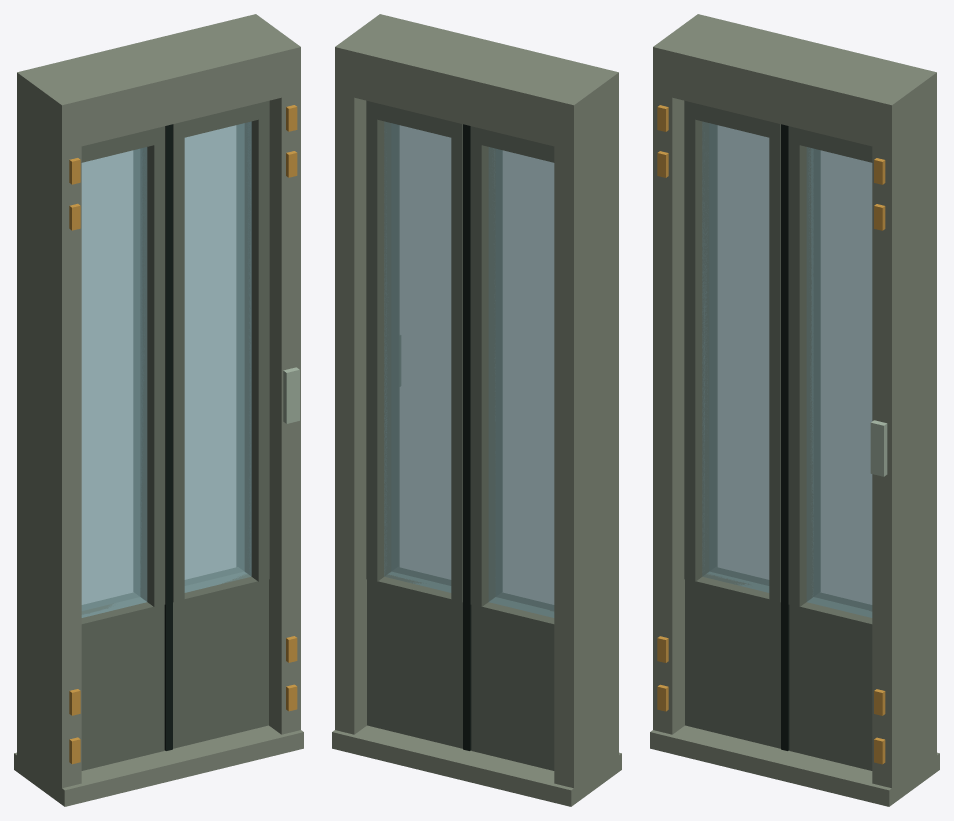
The model's file is CMU3DHybrisaGlassAirlock.glb.
3 views of the same model, side by side, from view 1: azimuth 30°, elevation 25°; view 2: azimuth 150°, elevation 25°; view 3: azimuth 330°, elevation 25° (orthographic).
Parts seen in each view (by area): view 1: glazing (×2), left jamb, inner stile (×2), lower plate (×2), lintel, right jamb, threshold, outer stile, center seam, upper rail (×2), access reader; view 2: glazing (×2), left jamb, inner stile (×2), lower plate (×2), lintel, right jamb, threshold, outer stile, center seam, upper rail (×2); view 3: glazing (×2), right jamb, outer stile (×2), lower plate (×2), lintel, left jamb, threshold, inner stile, center seam, upper rail (×2), access reader.
Part boxes in pixels (bbox=[...]): glazing (×2): bbox=[81, 121, 251, 617]; left jamb: bbox=[17, 106, 81, 804]; inner stile (×2): bbox=[134, 101, 269, 607]; lower plate (×2): bbox=[81, 567, 268, 770]; lintel: bbox=[17, 14, 300, 147]; right jamb: bbox=[269, 80, 300, 734]; threshold: bbox=[14, 725, 303, 806]; outer stile: bbox=[173, 121, 184, 602]; center seam: bbox=[164, 124, 172, 750]; upper rail (×2): bbox=[81, 101, 269, 162]; access reader: bbox=[283, 367, 299, 423]; glazing (×2): bbox=[384, 121, 554, 617]; left jamb: bbox=[554, 106, 618, 796]; inner stile (×2): bbox=[366, 100, 501, 607]; lower plate (×2): bbox=[367, 567, 554, 770]; lintel: bbox=[335, 14, 618, 150]; right jamb: bbox=[335, 80, 366, 734]; threshold: bbox=[332, 725, 621, 806]; outer stile: bbox=[451, 121, 462, 602]; center seam: bbox=[463, 124, 471, 750]; upper rail (×2): bbox=[366, 101, 554, 162]; glazing (×2): bbox=[702, 121, 872, 617]; right jamb: bbox=[872, 106, 936, 798]; outer stile (×2): bbox=[684, 101, 819, 607]; lower plate (×2): bbox=[685, 567, 872, 770]; lintel: bbox=[653, 14, 936, 149]; left jamb: bbox=[653, 80, 684, 734]; threshold: bbox=[650, 725, 939, 806]; inner stile: bbox=[769, 121, 780, 602]; center seam: bbox=[781, 124, 789, 750]; upper rail (×2): bbox=[684, 101, 872, 162]; access reader: bbox=[870, 420, 887, 476].
Size of the model in its own units: 0.98 by 2.74 by 0.364.
